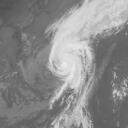cyclone: (49, 44, 86, 80)
